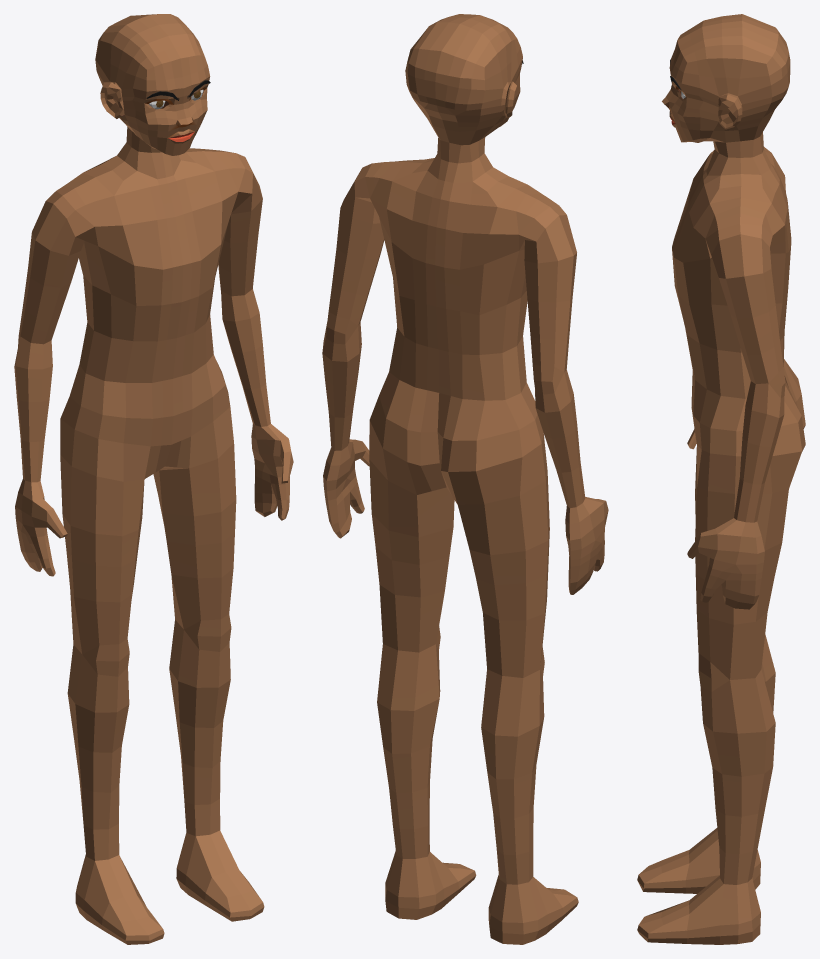
File: Male_Stand.fbx
3 renders of one model, left to right at view 1: azimuth 30°, elevation 25°; view 2: azimuth 150°, elevation 25°; view 3: azimuth 270°, elevation 25°, orthographic. The views are drawn at different scales.
Parts seen in each view (by area): view 1: Male_Stand; view 2: Male_Stand; view 3: Male_Stand.
Part boxes in pixels (x1,y1,x2,y2): Male_Stand: (14,14,293,944); Male_Stand: (322,14,608,944); Male_Stand: (637,14,805,944).
Bounding box in the file's own units: 0.3234 × 1.05 × 0.1809.
